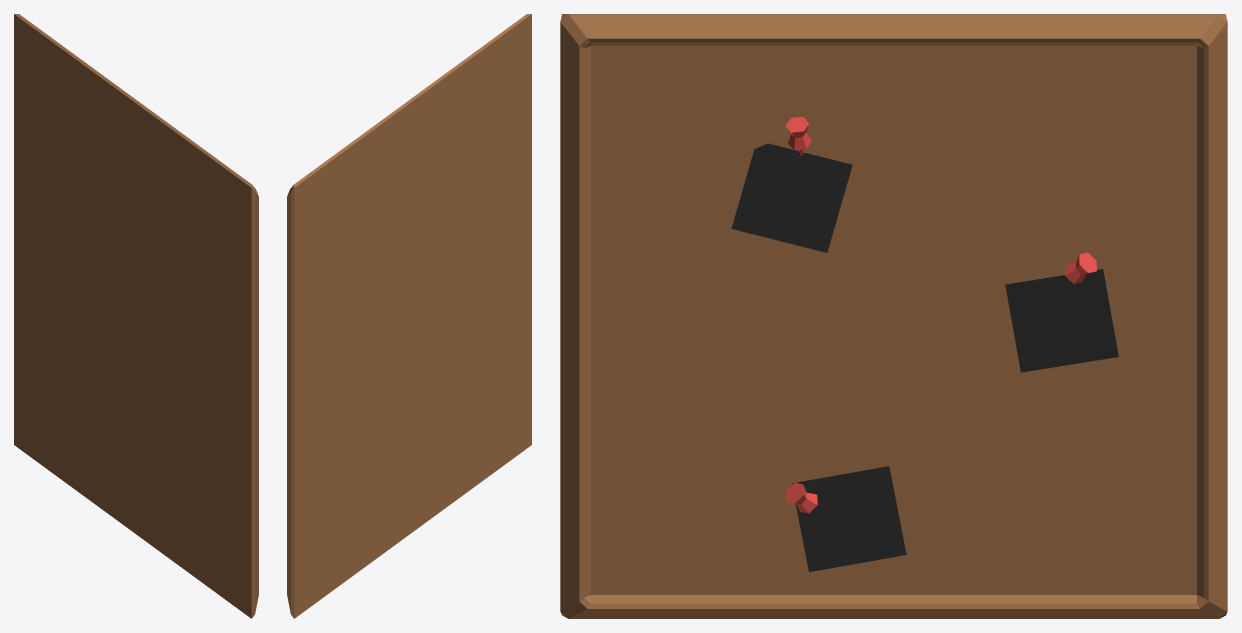
The model's file is Board.fbx.
The picture shows the model from 3 angles, left to right: view 1: azimuth 30°, elevation 25°; view 2: azimuth 150°, elevation 25°; view 3: azimuth 270°, elevation 25°; orthographic projection. The views are drawn at different scales.
Visible parts, largest first — view 1: Board; view 2: Board; view 3: Board, Plane, Plane.001, Plane.002.
Boxes of the visible parts, x1=… form: Board: x1=14, y1=14, x2=258, y2=618; Board: x1=287, y1=14, x2=531, y2=618; Board: x1=560, y1=14, x2=1227, y2=618; Plane: x1=731, y1=143, x2=852, y2=252; Plane.001: x1=1005, y1=269, x2=1118, y2=372; Plane.002: x1=791, y1=466, x2=906, y2=571.
Bounding box in the file's own units: 20.31 × 343 × 343.
